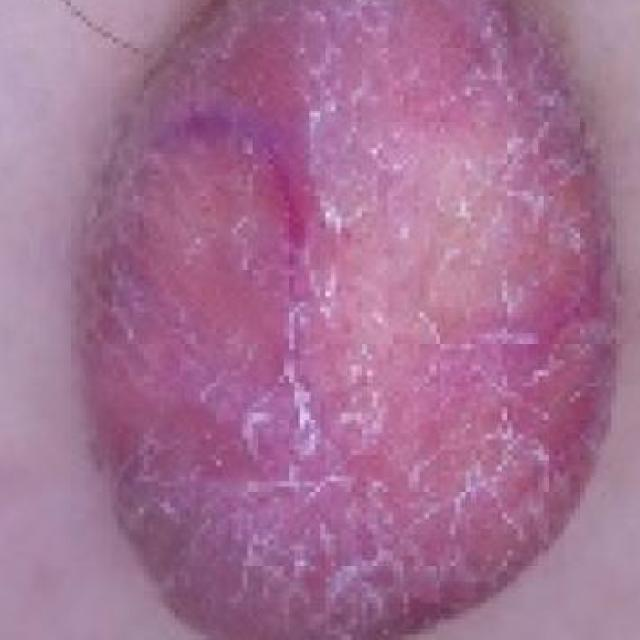DF: (62, 0, 636, 640)
